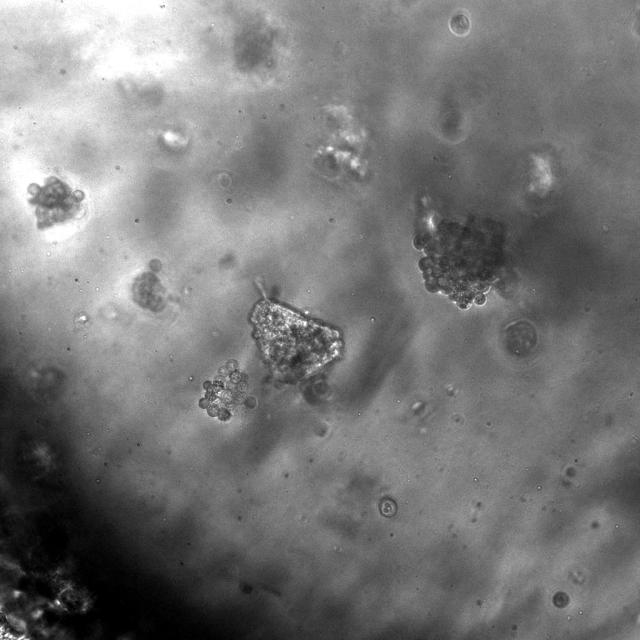organoid: (412, 192, 516, 310), (249, 282, 344, 404), (197, 360, 257, 421), (28, 176, 85, 229), (131, 259, 166, 312), (502, 319, 538, 359), (449, 11, 471, 36), (378, 496, 397, 517), (552, 592, 569, 607)
